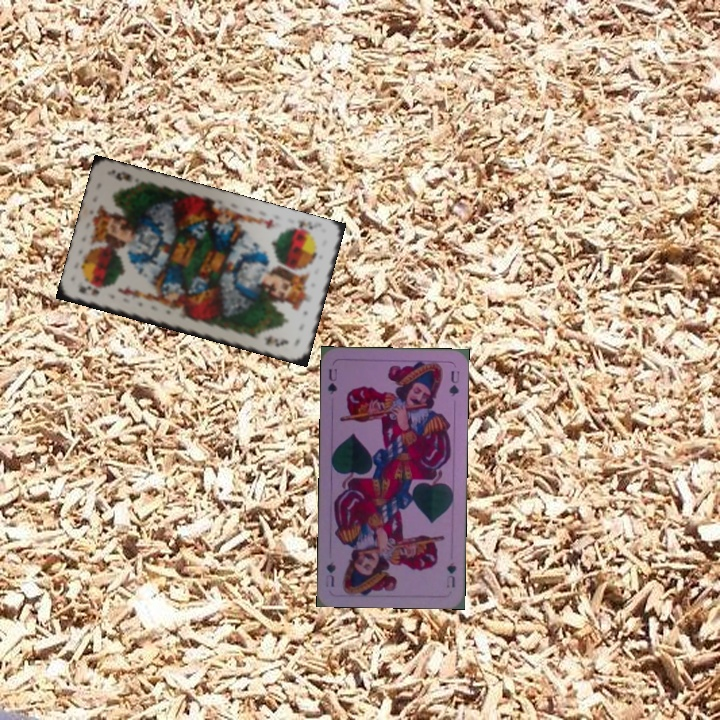GU: (442, 558, 459, 590), (324, 365, 340, 397)
SK: (74, 280, 102, 298), (294, 217, 321, 232)
